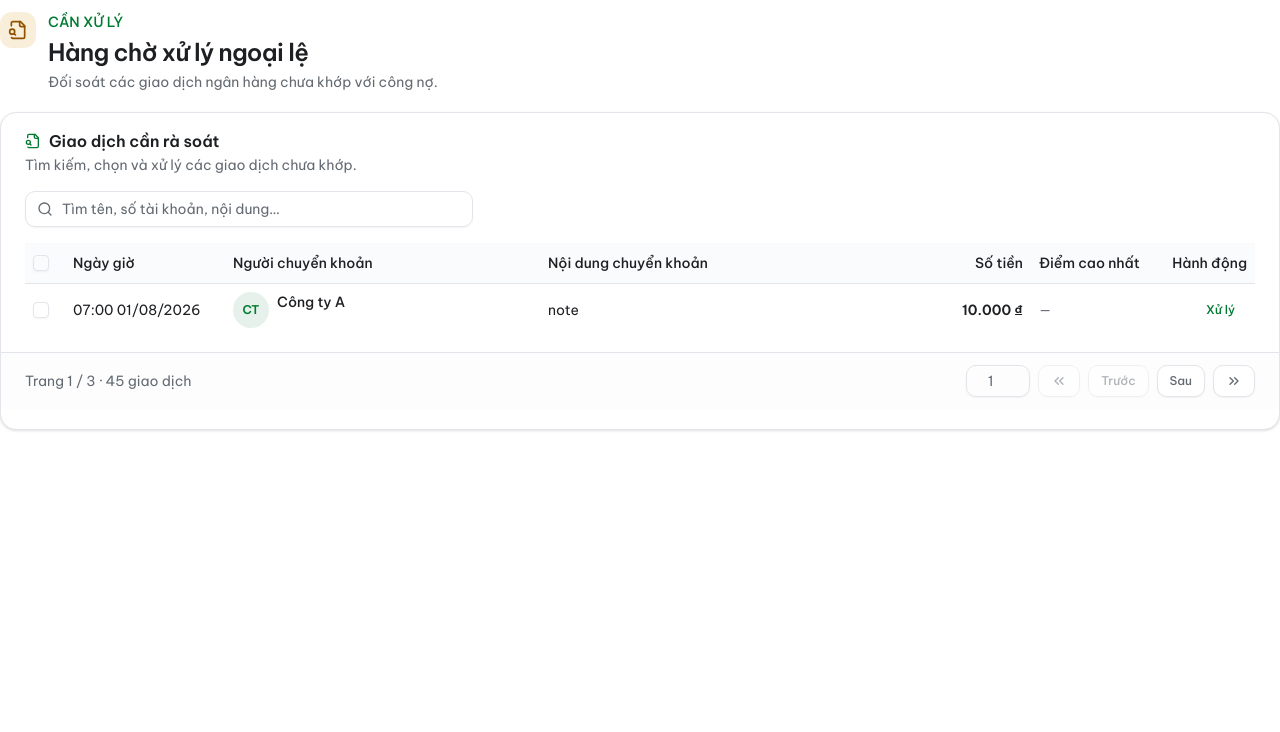
Test: ExceptionsPage › drops the bulk selection while the next page loads
This screenshot has width=1280, height=732.
Step 1. Click the checkbox named "Chọn giao dịch TX-1" → (41, 310), box left=33, top=302, right=49, bottom=318
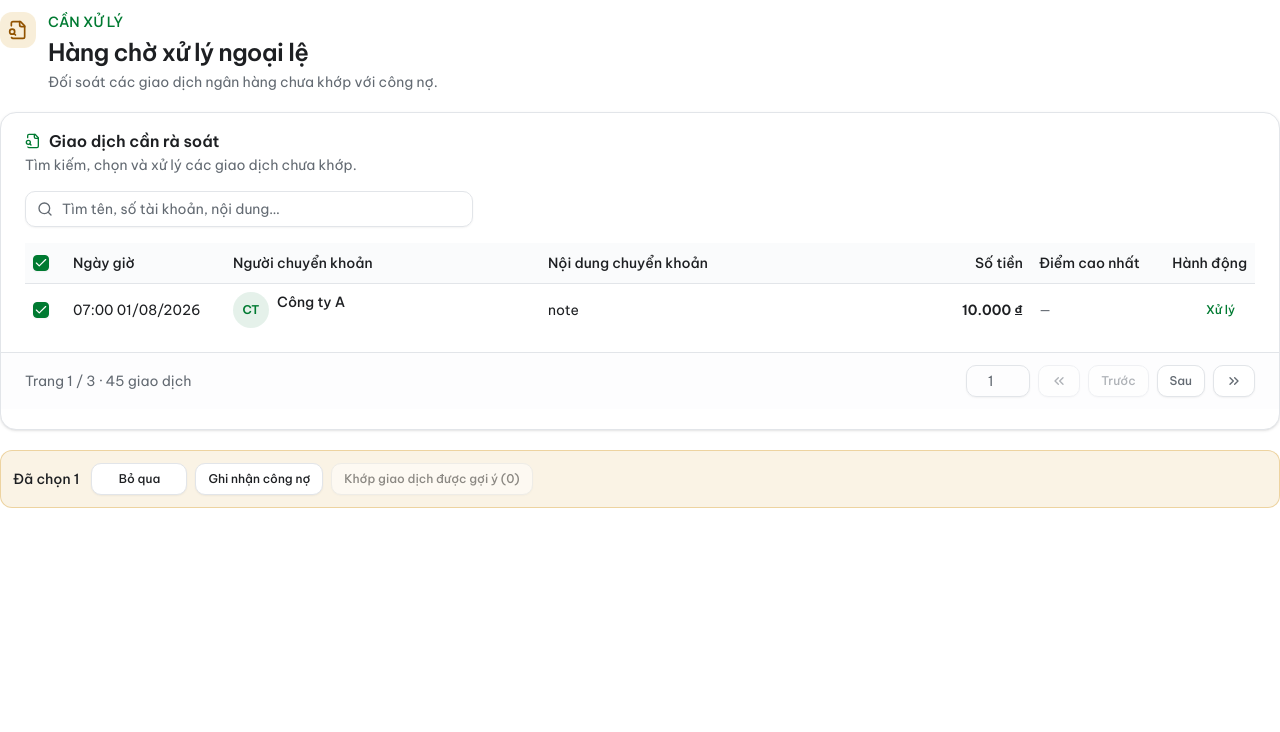
Result: the text "Đã chọn 1" is shown at left=13, top=468, right=80, bottom=488
Step 2. Click the button "Sau" → (1181, 380), box left=1157, top=364, right=1205, bottom=396
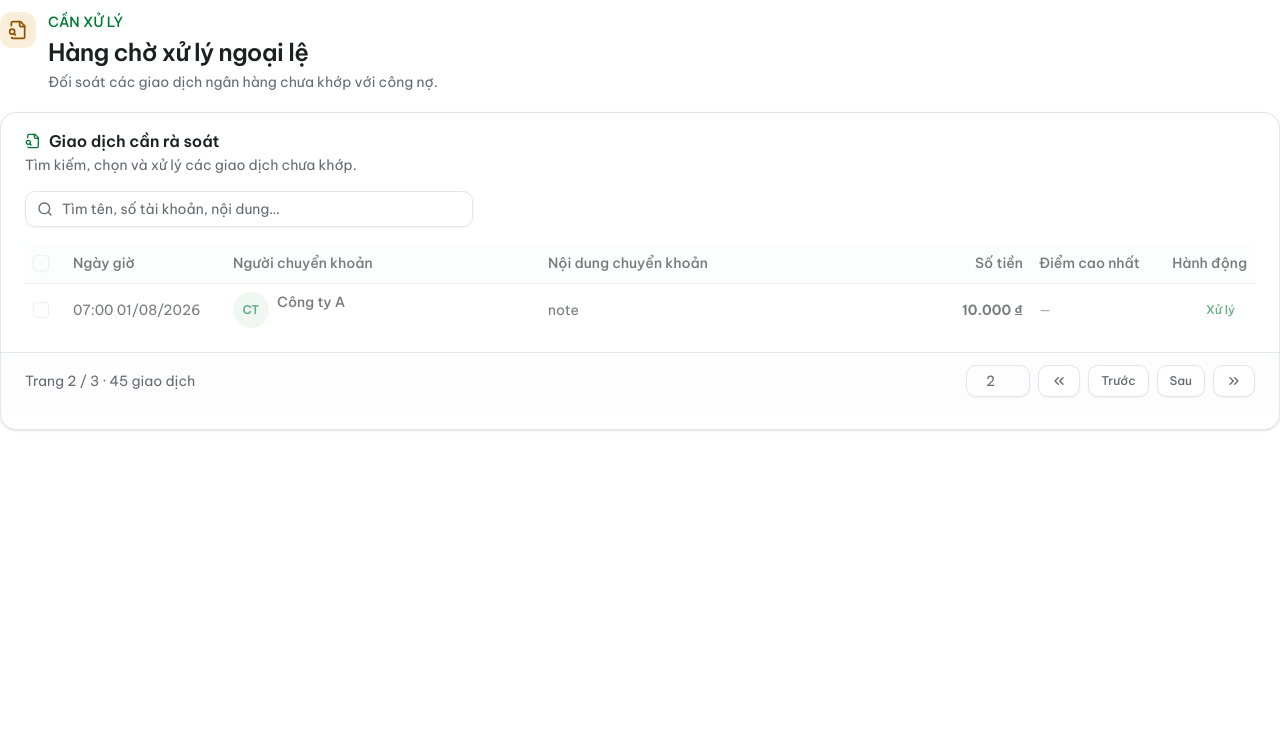
Result: the text "Đã chọn 1" is gone
